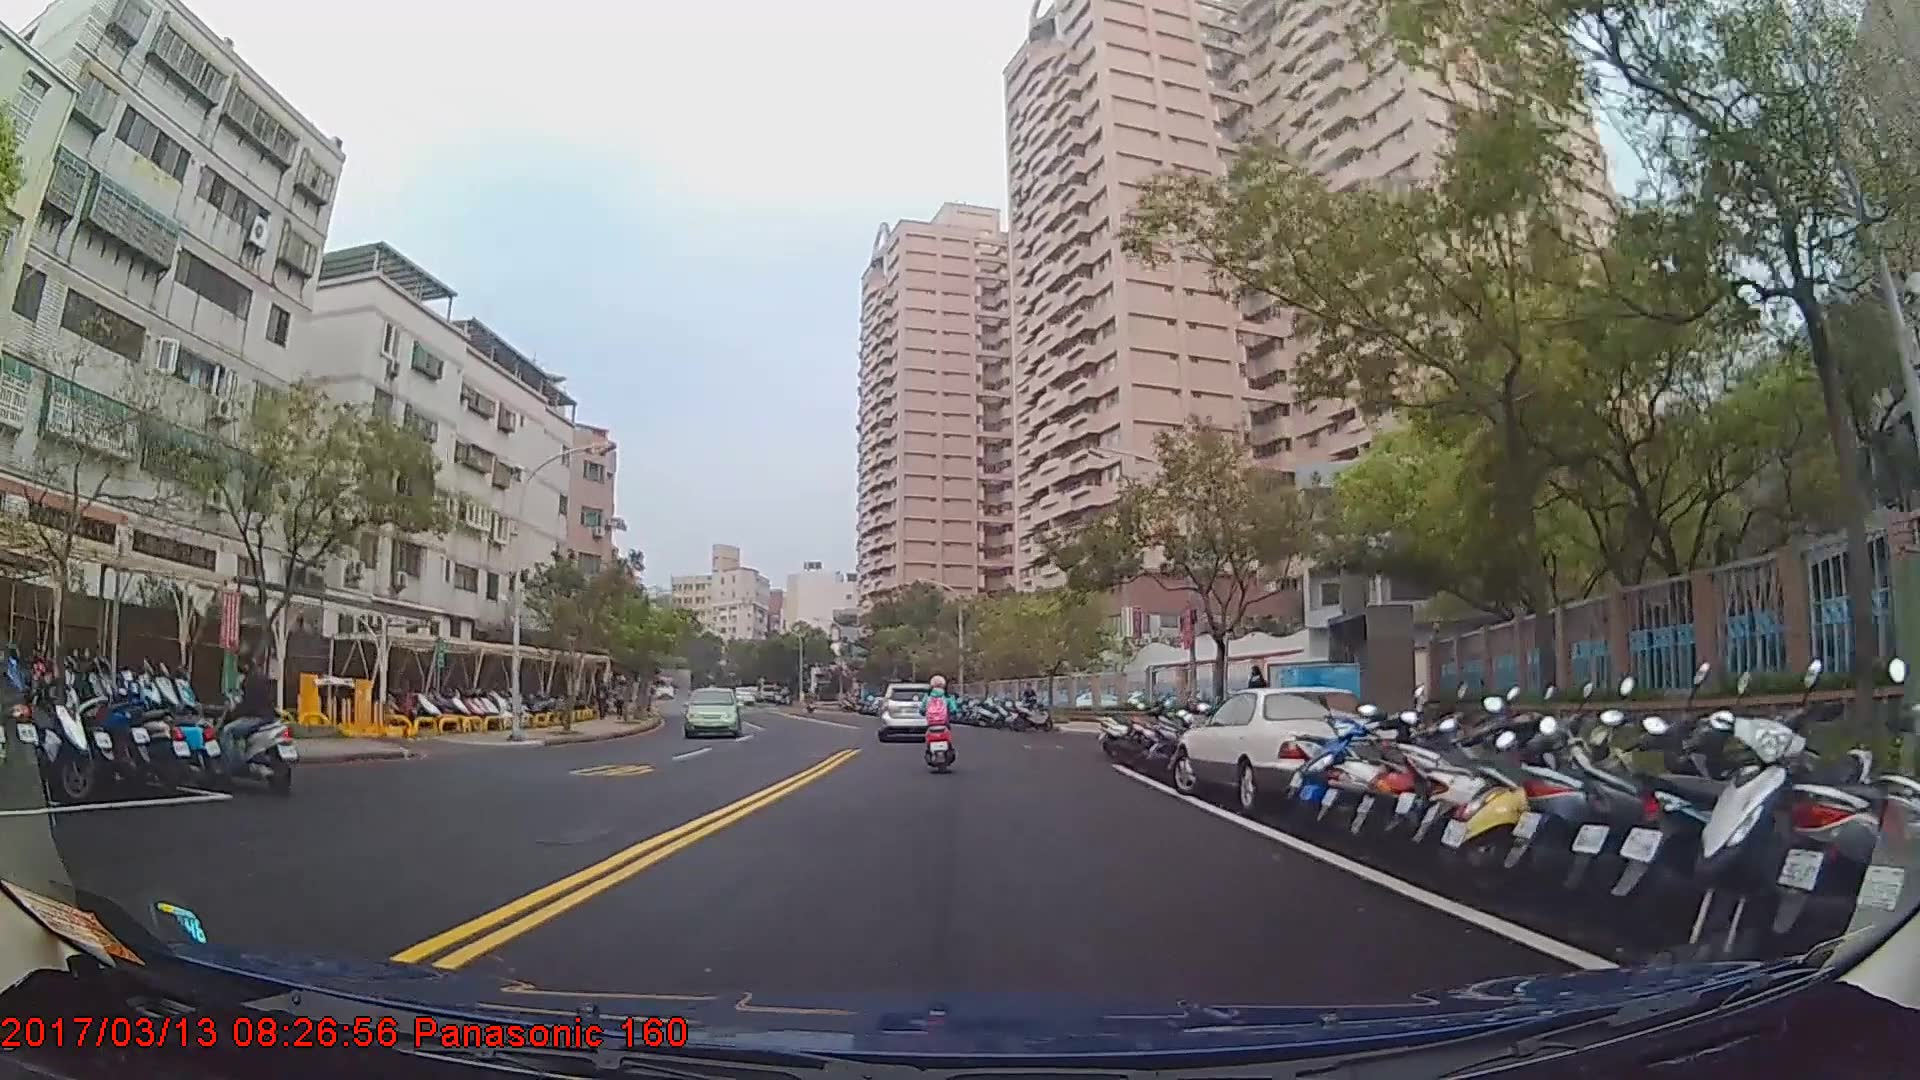pedestrian: (1246, 665, 1272, 735), (1022, 682, 1042, 724)
rider: (197, 645, 299, 799), (920, 672, 963, 776)
vehicle: (1171, 685, 1417, 812), (874, 680, 937, 739), (683, 686, 740, 739)
